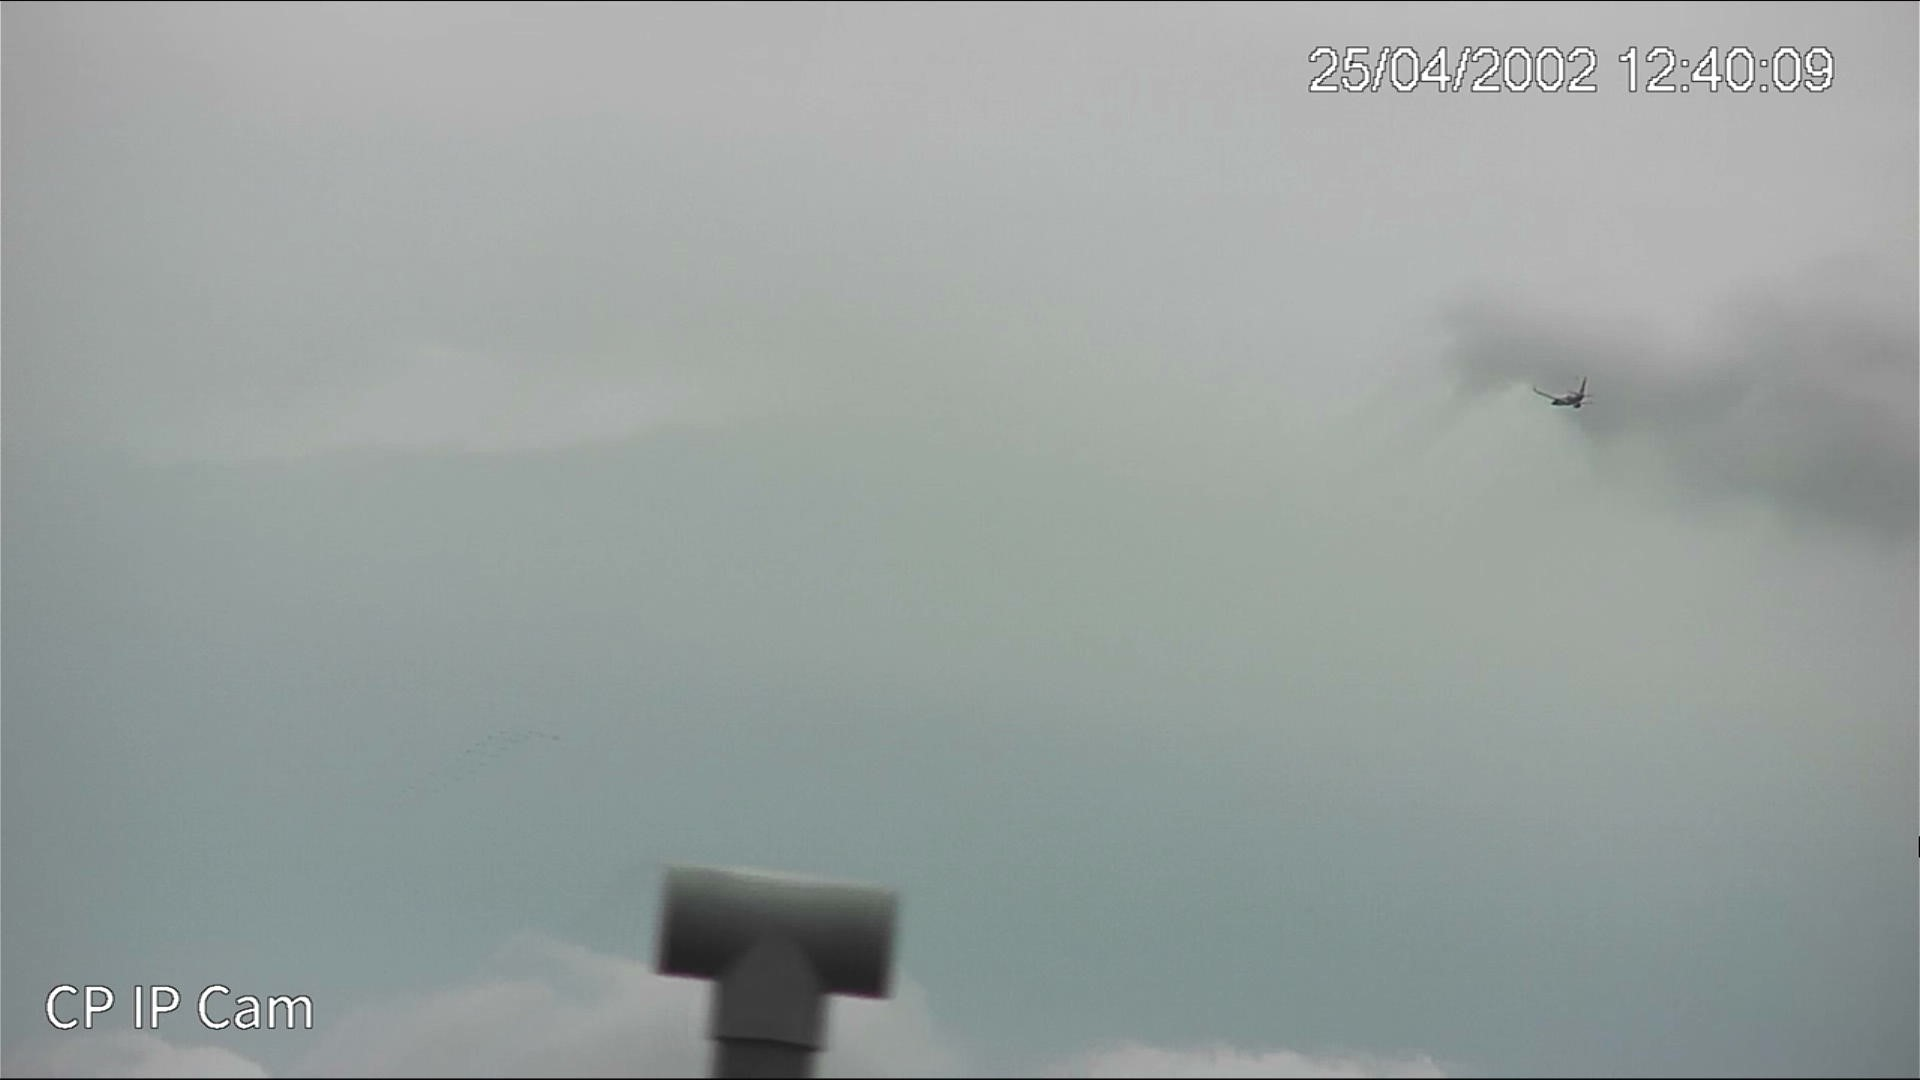SU_30: (1530, 375, 1592, 413)
